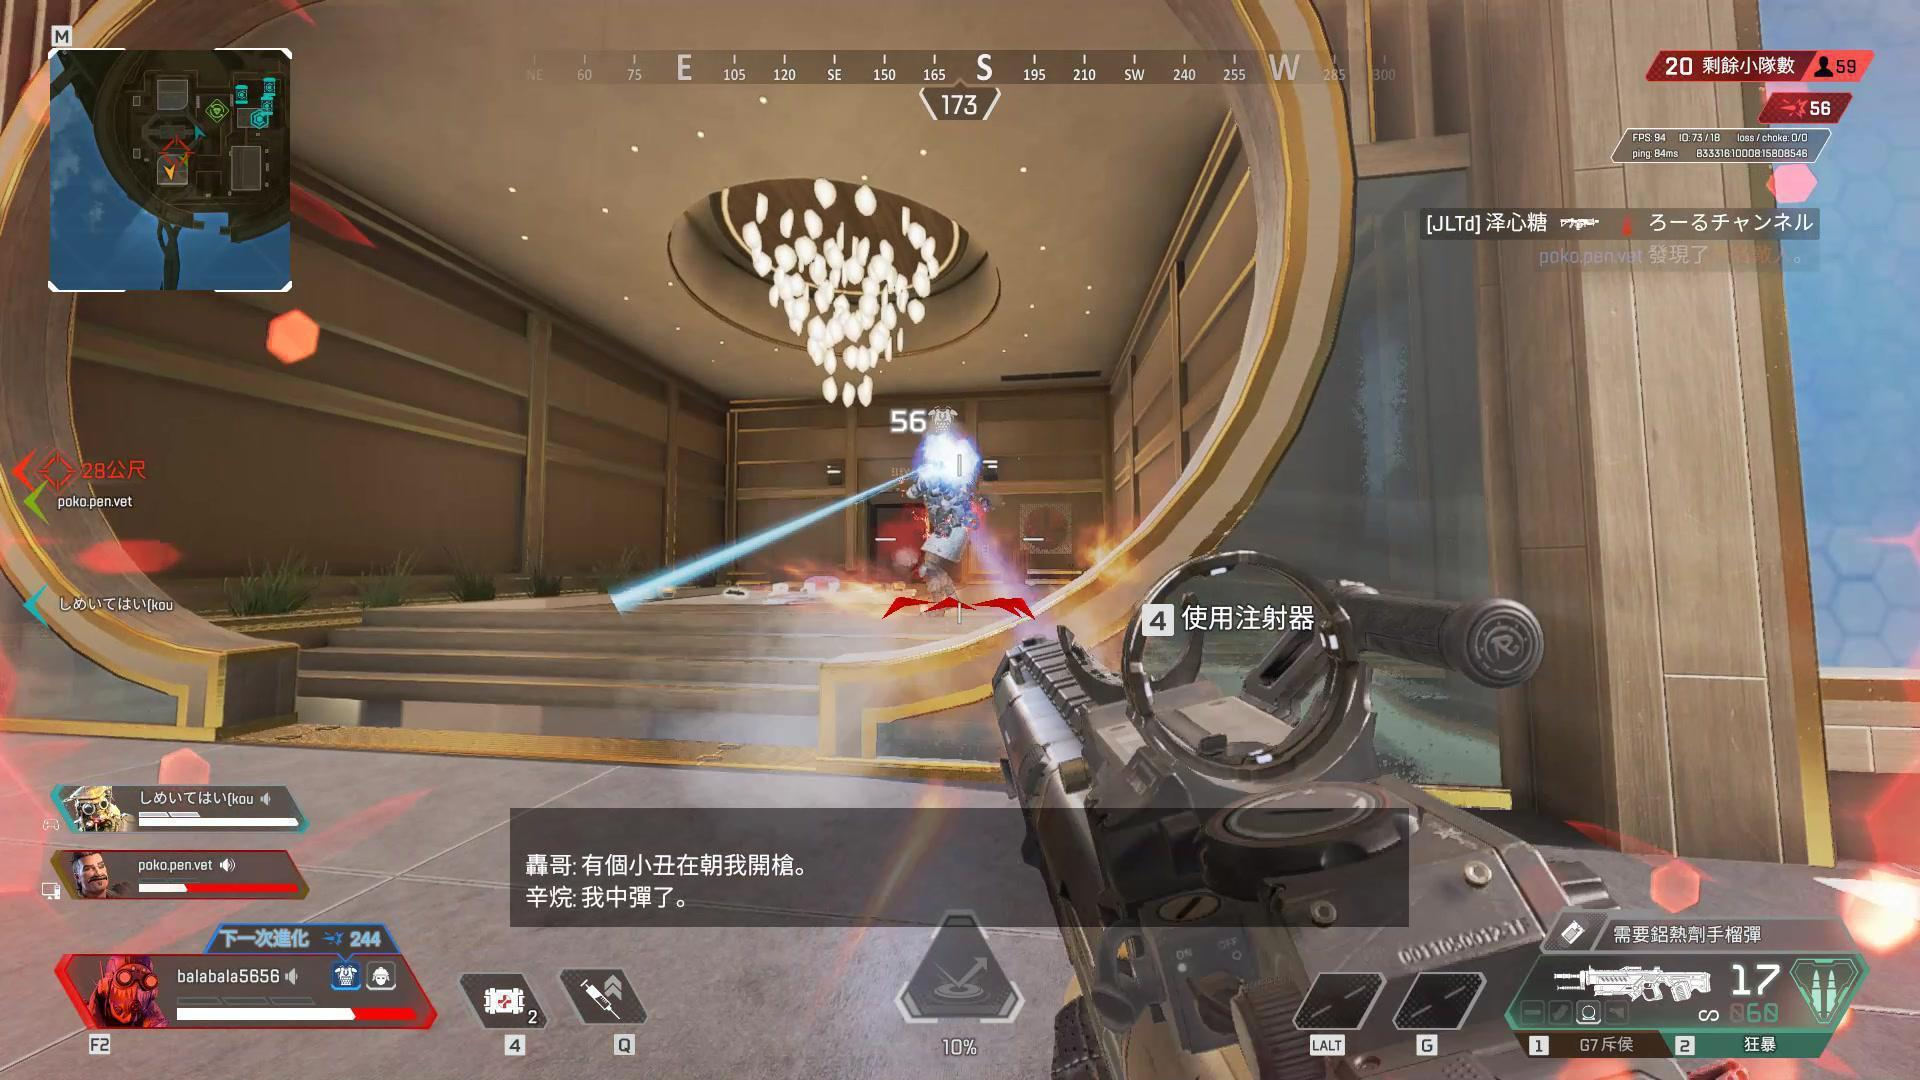avatar: (906, 432, 977, 620)
object: (912, 427, 982, 498)
